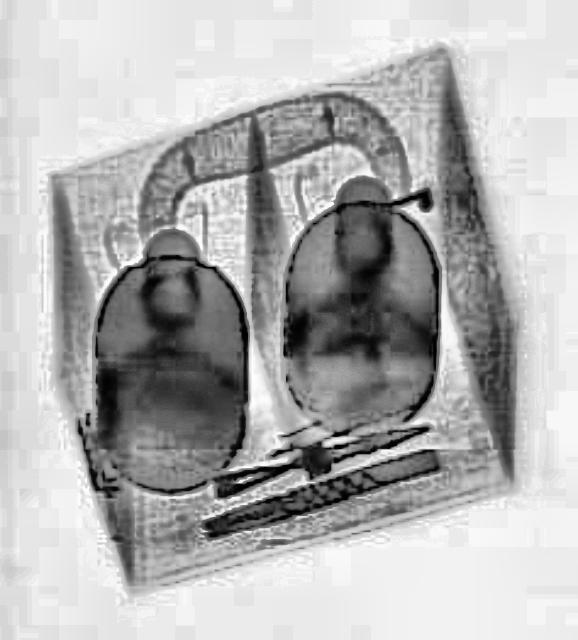Knife: (204, 407, 432, 503)
